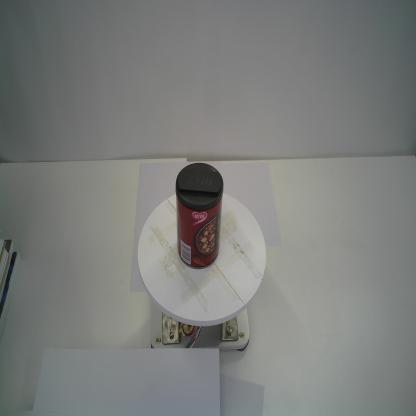Canned Food: (173, 160, 224, 274)
